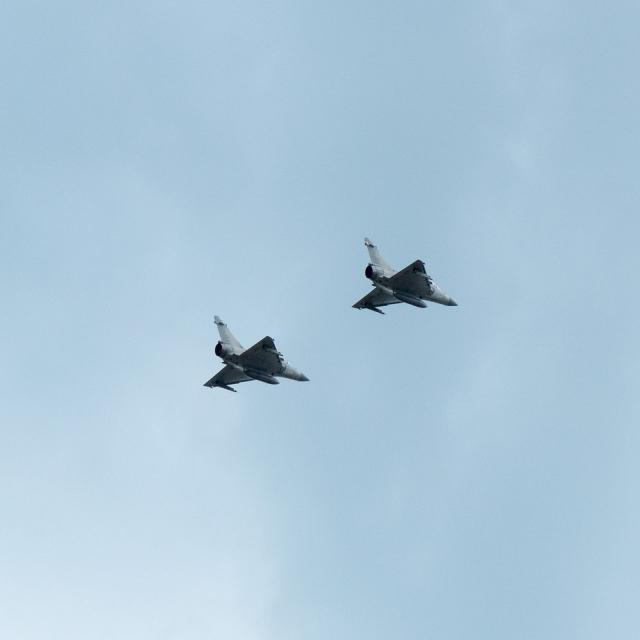MIL_Plane: (351, 237, 459, 316), (202, 316, 310, 394)
